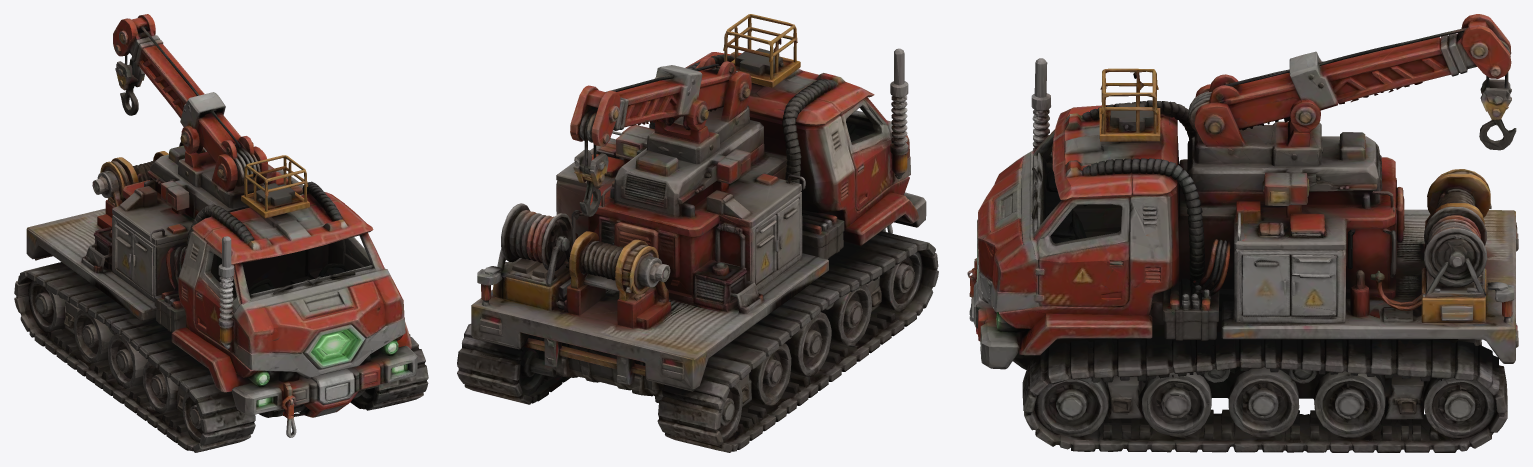
File: river-vehicle.glb
3 views of the same model, side by side, from view 1: azimuth 30°, elevation 25°; view 2: azimuth 150°, elevation 25°; view 3: azimuth 270°, elevation 25° (orthographic). The views are drawn at different scales.
Parts seen in each view (by area): view 1: geometry_0; view 2: geometry_0; view 3: geometry_0.
Boxes of the visible parts, x1,y1,x2,y2 form: geometry_0: [14, 14, 428, 452]; geometry_0: [457, 14, 938, 452]; geometry_0: [967, 14, 1518, 452].
Size of the model in its own units: 0.5922 by 0.7293 by 0.9997.
Materials: 1 (1 with a texture image).
